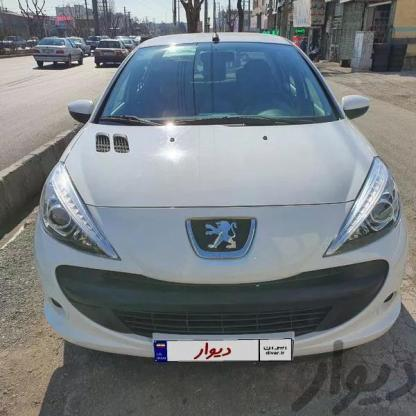Car: (37, 31, 410, 366), (34, 24, 82, 74), (93, 36, 139, 68)
